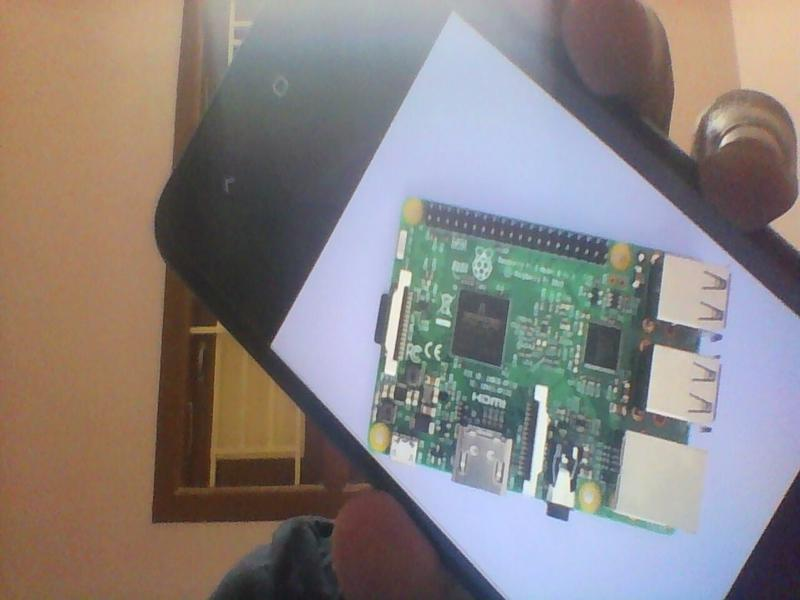aud: (545, 433, 582, 525)
eth: (615, 425, 706, 534)
usb: (652, 252, 734, 341), (641, 345, 722, 429)
